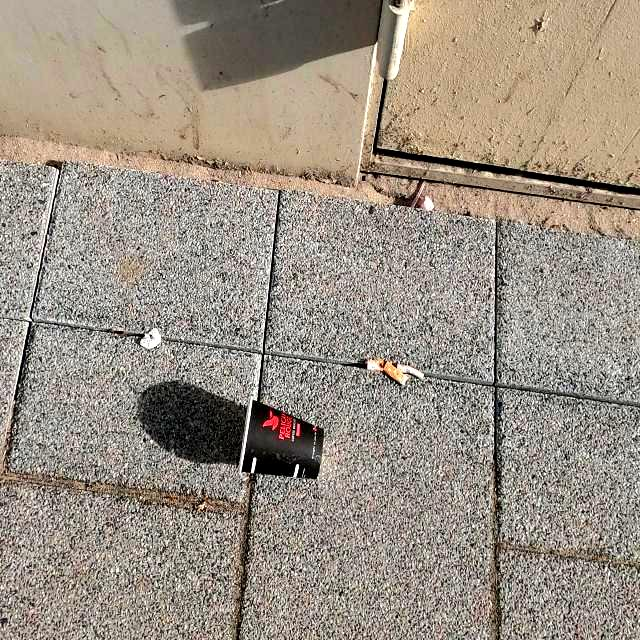Coffee Cup: (237, 394, 325, 482)
